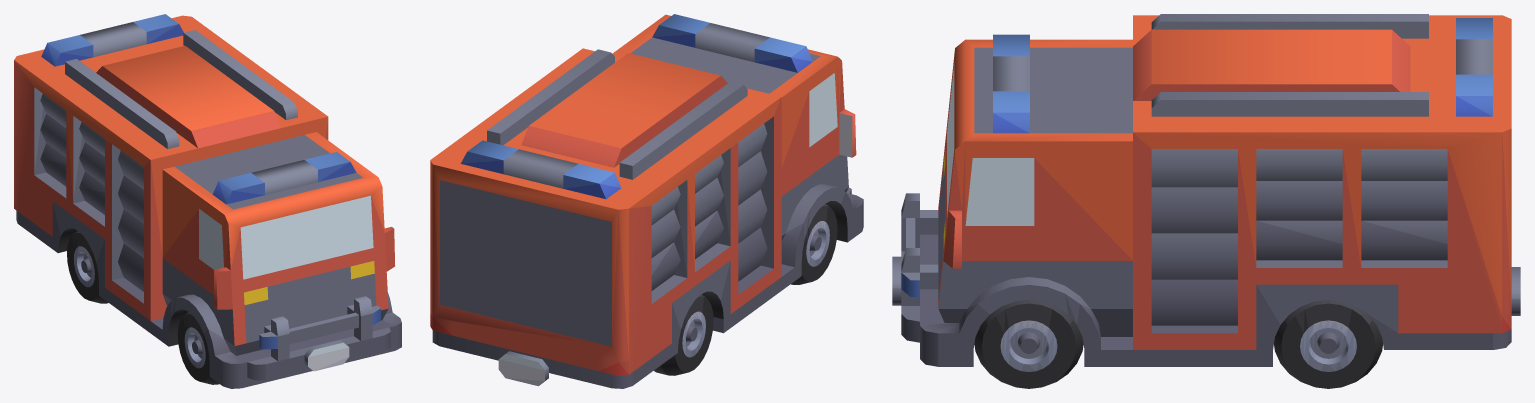
The model's file is bombeiros.glb.
The picture shows the model from 3 angles, left to right: view 1: azimuth 30°, elevation 25°; view 2: azimuth 150°, elevation 25°; view 3: azimuth 270°, elevation 25°; orthographic projection. The views are drawn at different scales.
Parts seen in each view (by area): view 1: body, grill, wheel-front-right; view 2: body, wheel-front-right; view 3: body, wheel-front-right, grill.
Boxes of the visible parts, x1,y1,x2,y2 form: body: (14,14,401,388); grill: (247,296,390,380); wheel-front-right: (72,230,205,367); body: (430,14,863,388); wheel-front-right: (682,203,831,357); body: (920,14,1520,388); wheel-front-right: (985,300,1371,370); grill: (892,193,938,342).
Bounding box in the file's own units: 1.5 × 1.7 × 3.4.
